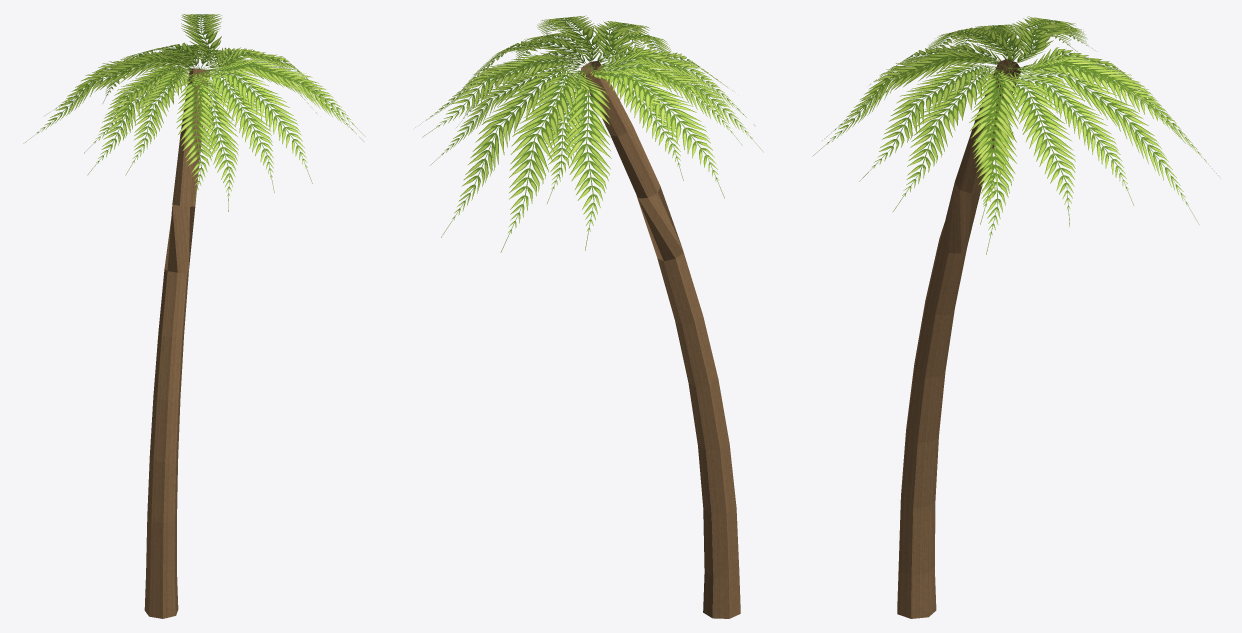
File: palm2_b.glb
3 views of the same model, side by side, from view 1: azimuth 30°, elevation 25°; view 2: azimuth 150°, elevation 25°; view 3: azimuth 270°, elevation 25° (orthographic). The views are drawn at different scales.
Parts seen in each view (by area): view 1: palm2_b; view 2: palm2_b; view 3: palm2_b.
Part boxes in pixels (x1,y1,x2,y2): palm2_b: [23, 14, 365, 618]; palm2_b: [415, 15, 763, 618]; palm2_b: [812, 16, 1220, 618].
Bounding box in the file's own units: 2.6 × 4.23 × 2.69.
Materials: 2 (2 with a texture image).
